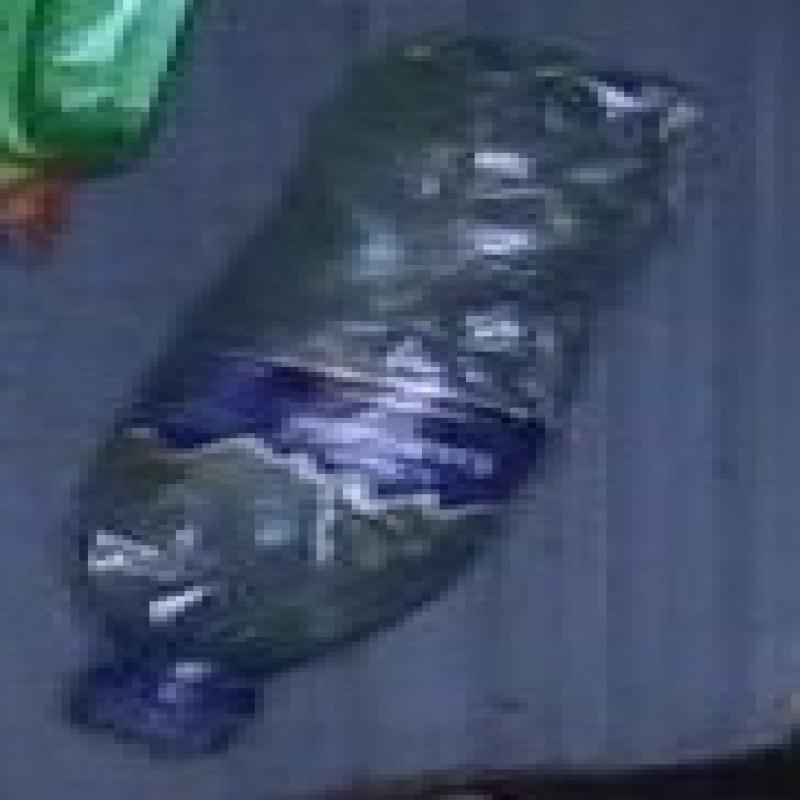botella: (102, 40, 706, 760)
